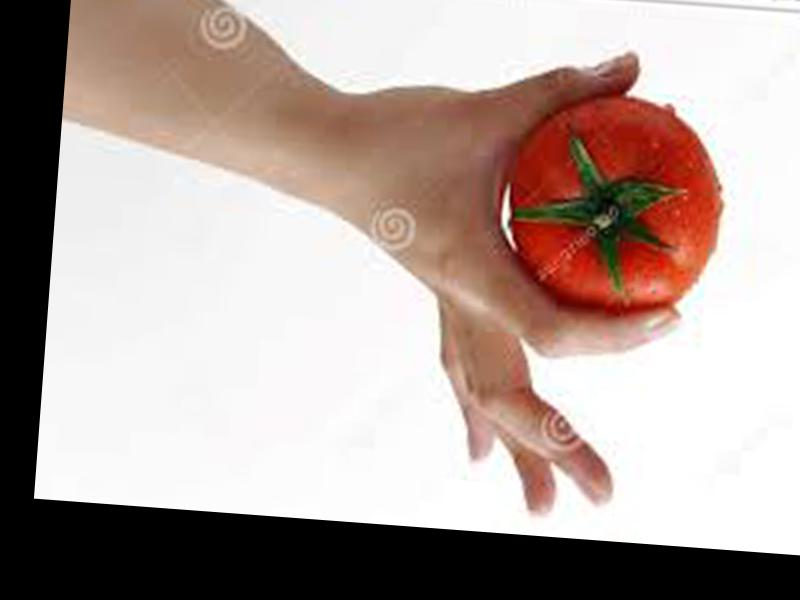Tomato: (500, 88, 730, 322)
